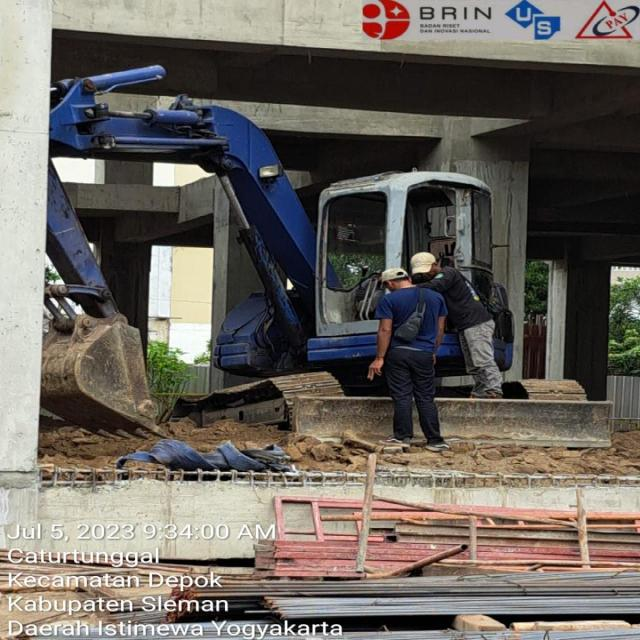Helmet: (371, 281, 443, 371), (428, 262, 494, 334), (361, 254, 413, 287), (404, 242, 440, 282)
